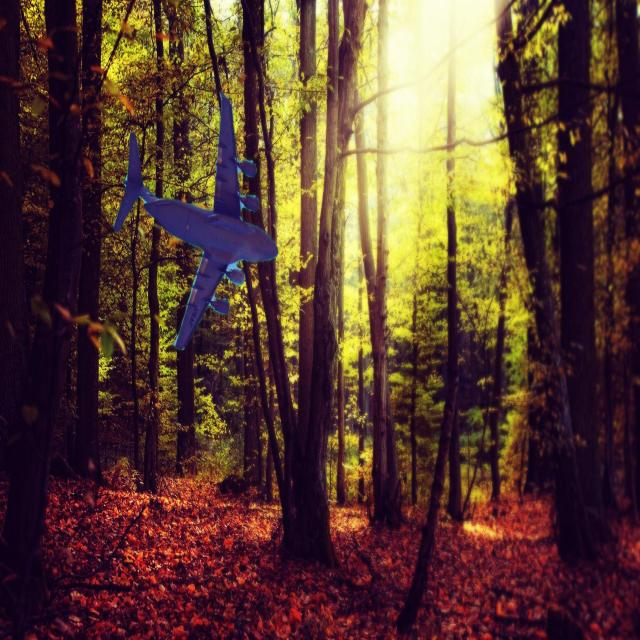airplane: (113, 92, 279, 351)
